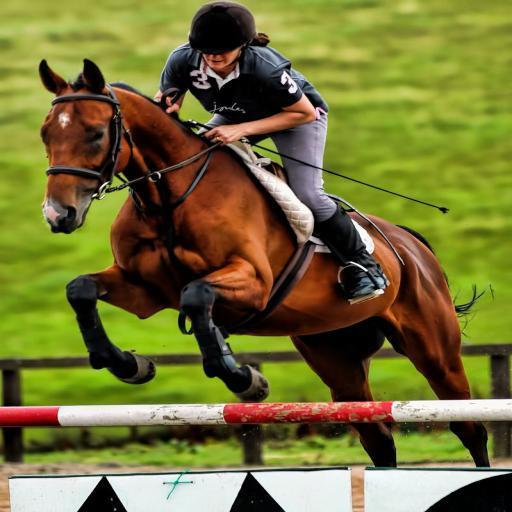horse: (40, 56, 494, 470)
